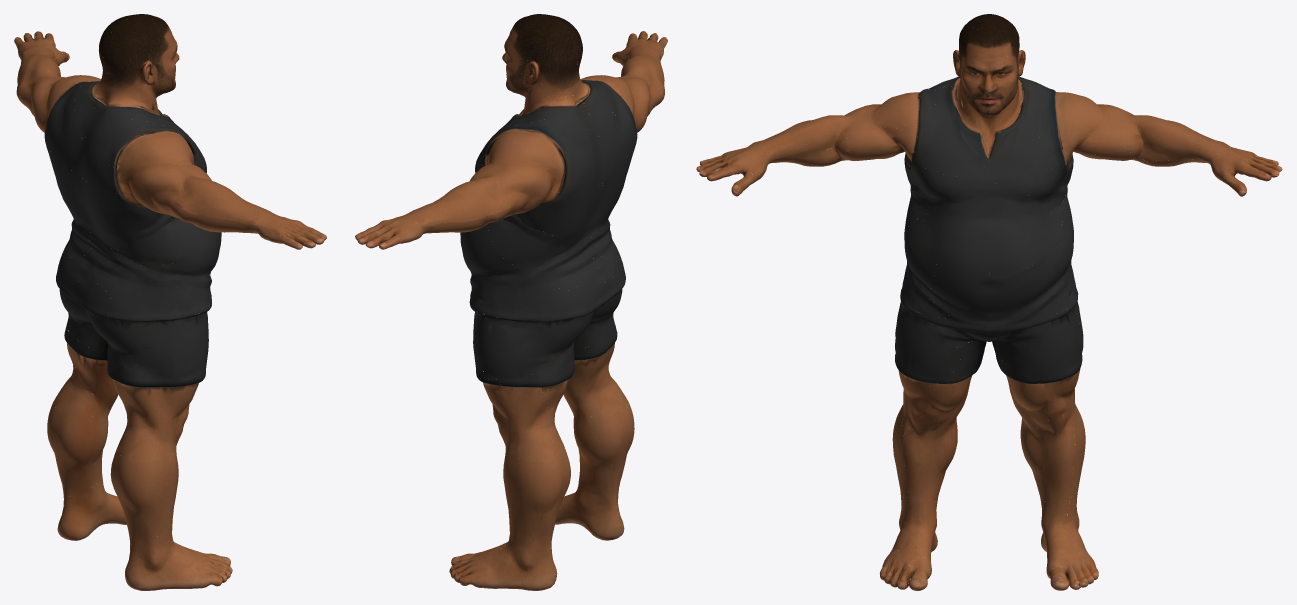
File: sd-body-human-masculine-heavy-local-retopo-pilot-v001.glb
3 views of the same model, side by side, from view 1: azimuth 30°, elevation 25°; view 2: azimuth 150°, elevation 25°; view 3: azimuth 270°, elevation 25° (orthographic).
Parts seen in each view (by area): view 1: tripo_node_a17024e1-4019-4491-9df9-881842c8d0c6; view 2: tripo_node_a17024e1-4019-4491-9df9-881842c8d0c6; view 3: tripo_node_a17024e1-4019-4491-9df9-881842c8d0c6.
Boxes of the visible parts, box(x1,y1,x2,y2) form: tripo_node_a17024e1-4019-4491-9df9-881842c8d0c6: box(14, 14, 326, 590); tripo_node_a17024e1-4019-4491-9df9-881842c8d0c6: box(355, 14, 667, 590); tripo_node_a17024e1-4019-4491-9df9-881842c8d0c6: box(696, 14, 1282, 590).
Size of the model in its own units: 0.4742 by 1.82 by 1.77.
Materials: 1 (1 with a texture image).
